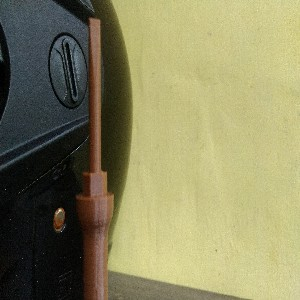obeng: (73, 17, 116, 298)
